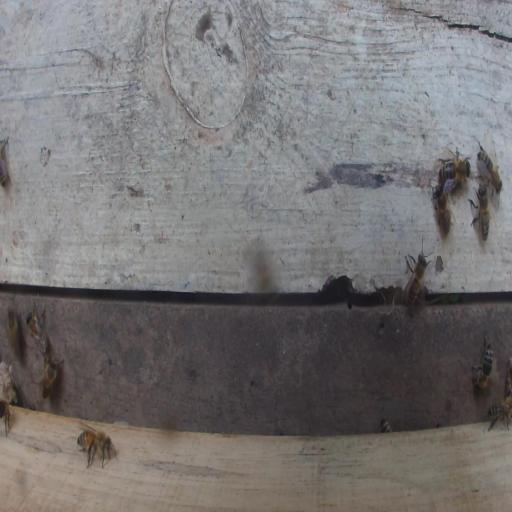nonpollenbee: (401, 235, 435, 311), (76, 427, 116, 468), (438, 145, 472, 193), (477, 140, 502, 197), (470, 177, 491, 244), (471, 334, 493, 392), (433, 187, 455, 236), (25, 305, 47, 351), (39, 355, 62, 399), (487, 393, 512, 431), (8, 307, 21, 360), (0, 136, 11, 188), (0, 398, 11, 436), (380, 418, 392, 433)
